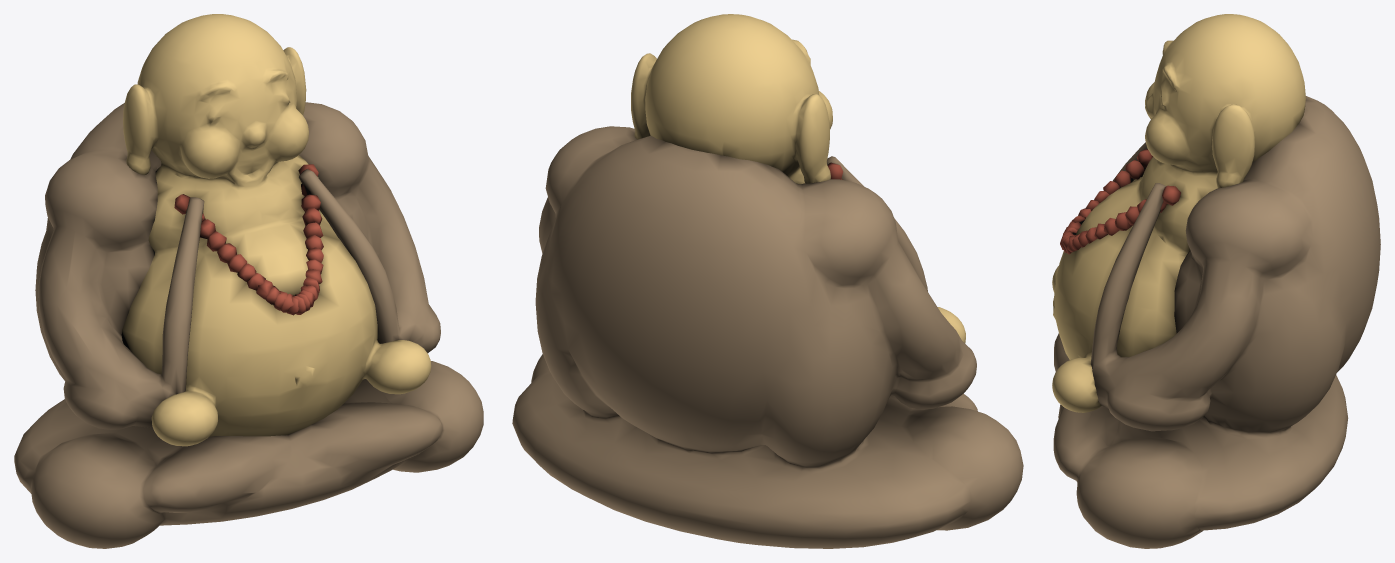
Rendered from maitreya.glb.
The picture shows the model from 3 angles, left to right: view 1: azimuth 30°, elevation 25°; view 2: azimuth 150°, elevation 25°; view 3: azimuth 270°, elevation 25°; orthographic projection. The views are drawn at different scales.
Parts seen in each view (by area): view 1: robe, skin, beads; view 2: robe, skin; view 3: robe, skin, beads.
Boxes of the visible parts, <box> form: robe: <box>14,102,483,548</box>; skin: <box>121,14,431,446</box>; beads: <box>174,164,323,315</box>; robe: <box>512,126,1023,548</box>; skin: <box>631,14,965,343</box>; robe: <box>1053,96,1380,548</box>; skin: <box>1052,14,1305,412</box>; beads: <box>1060,149,1180,254</box>.
Size of the model in its own units: 2.44 by 2.47 by 1.63.
